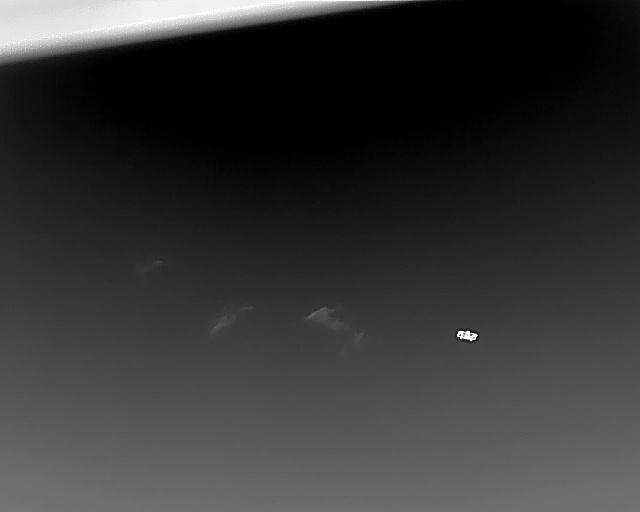fpv-drone: (455, 329, 478, 343)
